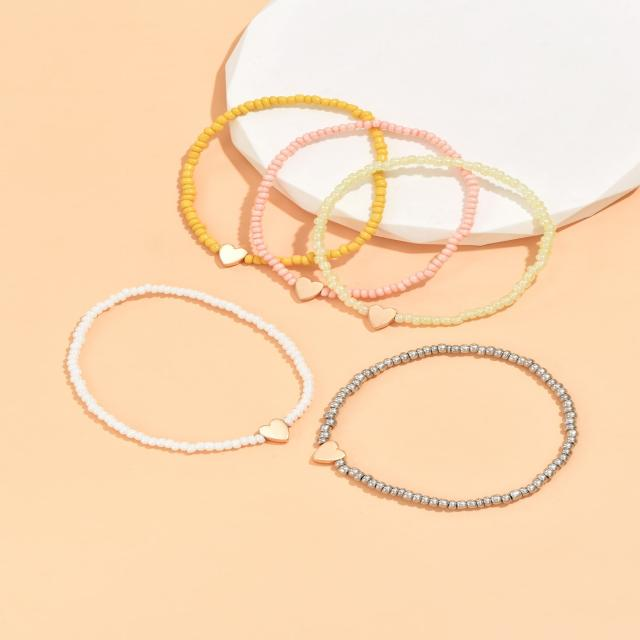bracelet: (26, 72, 640, 590)
